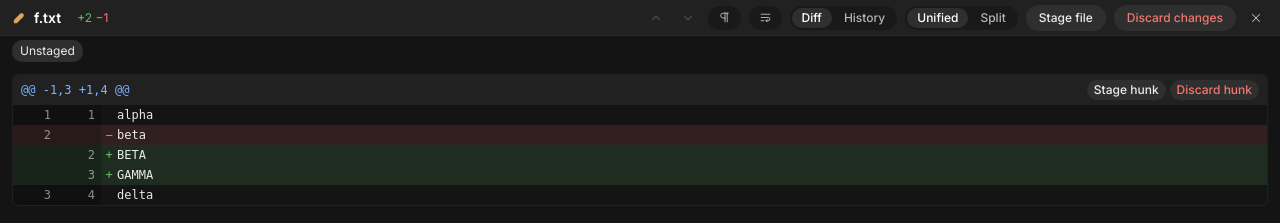
Test: DiffView (GC-014) › opens in the unified layout and flips to split from the header
Check: the number of rows with class "line" is 5, box [13, 105, 1267, 125]; [13, 125, 1267, 145]; [13, 145, 1267, 165]; [13, 165, 1267, 185]; [13, 185, 1267, 205]
Click the button "Split" at (993, 18), box [970, 8, 1016, 28]
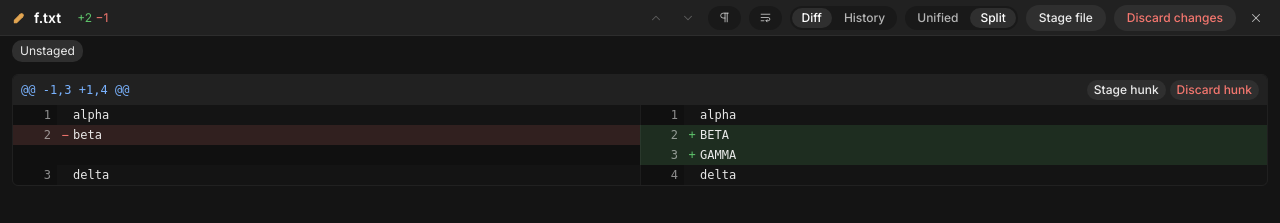
Check: the table with class "split" is shown, box [13, 105, 1267, 185]
